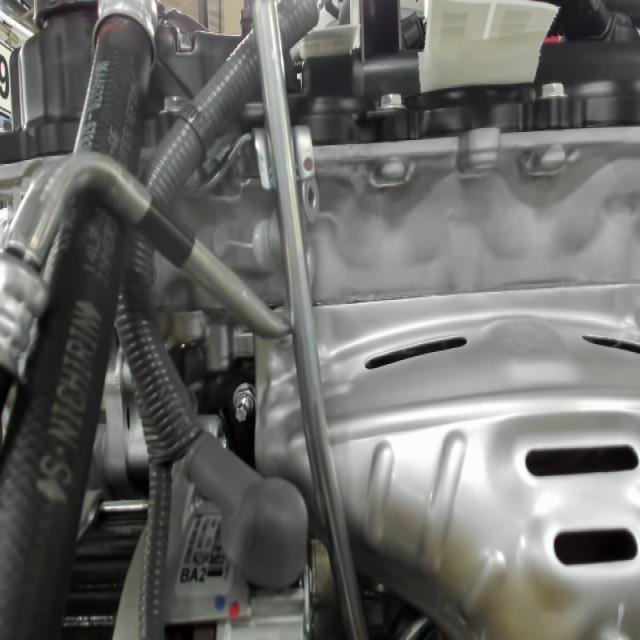Alternator-BA2: (175, 558, 228, 594)
Hose Discharge-HT: (129, 187, 201, 273)
